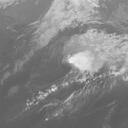cyclone: (66, 30, 117, 76)
